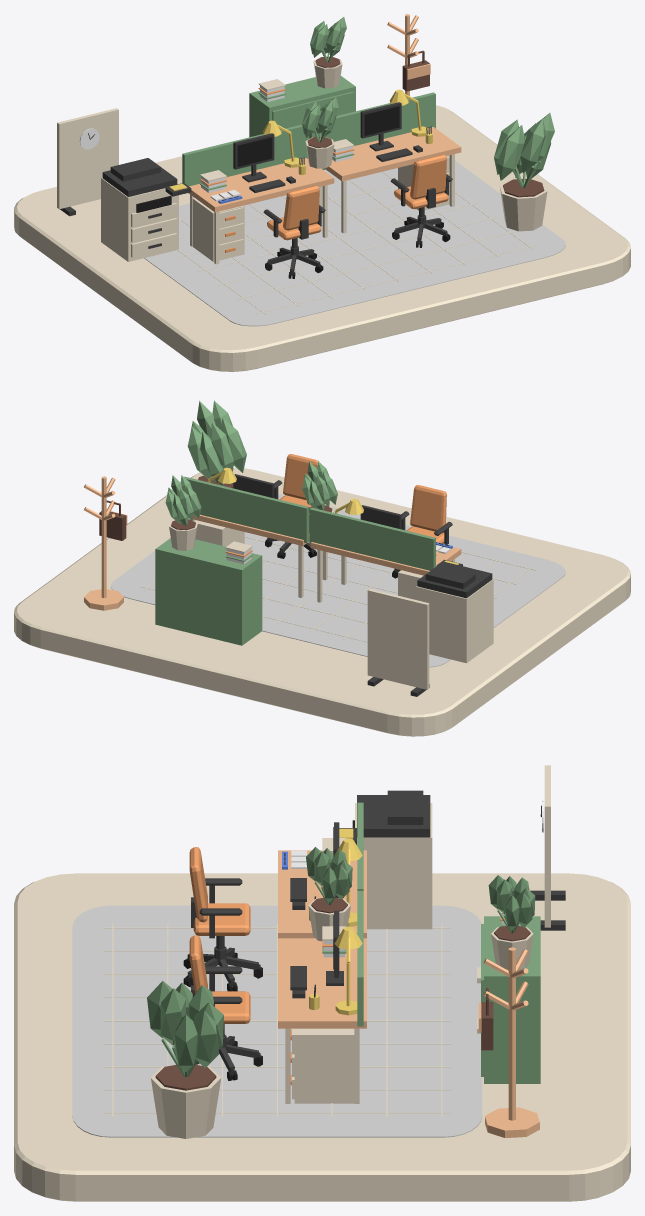
3 views of the same model, one above another, from view 1: azimuth 30°, elevation 25°; view 2: azimuth 150°, elevation 25°; view 3: azimuth 270°, elevation 25° (orthographic). The views are drawn at different scales.
Visible parts, largest first — view 1: AST-001-0, AST-002-0, AST-009-0, AST-3111-031, AST-010-2, AST-004-1, AST-004-0, AST-015-0, AST-003-0, AST-003-1, AST-013-0, AST-3180-030 (+8 smaller); view 2: AST-001-0, AST-002-0, AST-015-0, AST-009-0, AST-3111-031, AST-013-0, AST-013-1, AST-010-2, AST-003-0, AST-010-1, AST-016-0, AST-004-0 (+10 smaller); view 3: AST-001-0, AST-002-0, AST-009-0, AST-010-2, AST-004-1, AST-015-0, AST-008-1, AST-003-0, AST-3180-030, AST-016-0, AST-010-1, AST-003-1 (+7 smaller).
Boxes of the visible parts, box(x1,y1,x2,y2) form: AST-001-0: box(14, 105, 630, 371); AST-002-0: box(144, 160, 565, 326); AST-009-0: box(101, 158, 191, 261); AST-3111-031: box(57, 108, 118, 216); AST-010-2: box(494, 113, 554, 231); AST-004-1: box(319, 127, 461, 233); AST-004-0: box(188, 158, 334, 264); AST-015-0: box(249, 76, 355, 170); AST-003-0: box(263, 185, 325, 278); AST-003-1: box(390, 154, 452, 247); AST-013-0: box(182, 124, 308, 186); AST-3180-030: box(177, 171, 535, 314); AST-001-0: box(14, 467, 630, 736); AST-002-0: box(110, 494, 565, 667); AST-015-0: box(155, 538, 262, 645); AST-009-0: box(416, 559, 493, 663); AST-3111-031: box(367, 589, 429, 696); AST-013-0: box(309, 507, 435, 570); AST-013-1: box(184, 476, 308, 543); AST-010-2: box(187, 400, 246, 488); AST-003-0: box(392, 485, 452, 578); AST-010-1: box(165, 475, 201, 550); AST-016-0: box(84, 476, 123, 610); AST-004-0: box(310, 542, 461, 602); AST-001-0: box(14, 873, 630, 1201); AST-002-0: box(72, 905, 482, 1137); AST-009-0: box(339, 790, 432, 929); AST-010-2: box(147, 981, 223, 1138); AST-004-1: box(278, 938, 366, 1103); AST-015-0: box(477, 916, 540, 1083); AST-008-1: box(290, 1028, 354, 1103); AST-003-0: box(183, 847, 262, 991); AST-3180-030: box(103, 923, 450, 1117); AST-016-0: box(483, 947, 539, 1137); AST-010-1: box(488, 875, 535, 969); AST-003-1: box(189, 935, 262, 1080).
Bounding box in the file's own units: 6 × 2.17 × 5.2.
Materials: 1 (1 with a texture image).
